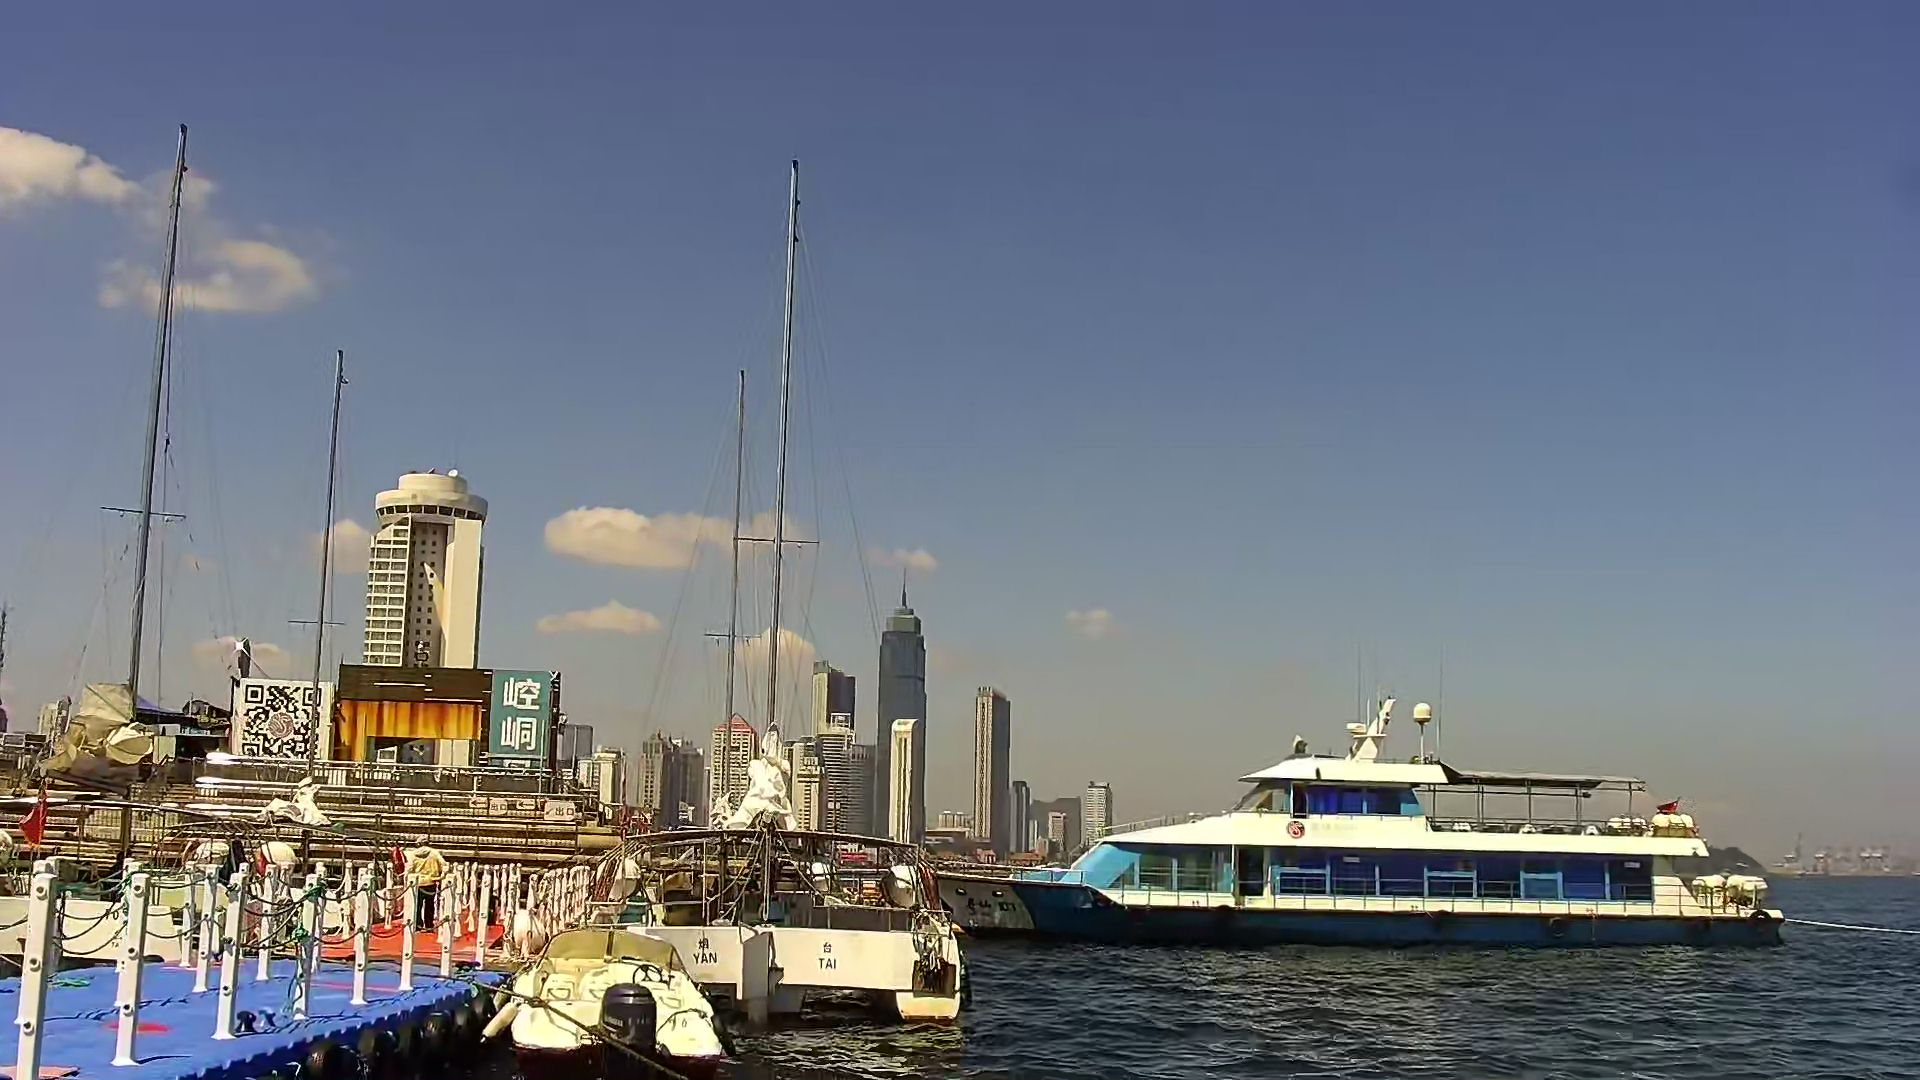boat: (592, 144, 1042, 1025), (1, 88, 276, 969), (473, 924, 749, 1065)
harbor: (8, 841, 479, 1069)
ship: (902, 688, 1826, 957)
